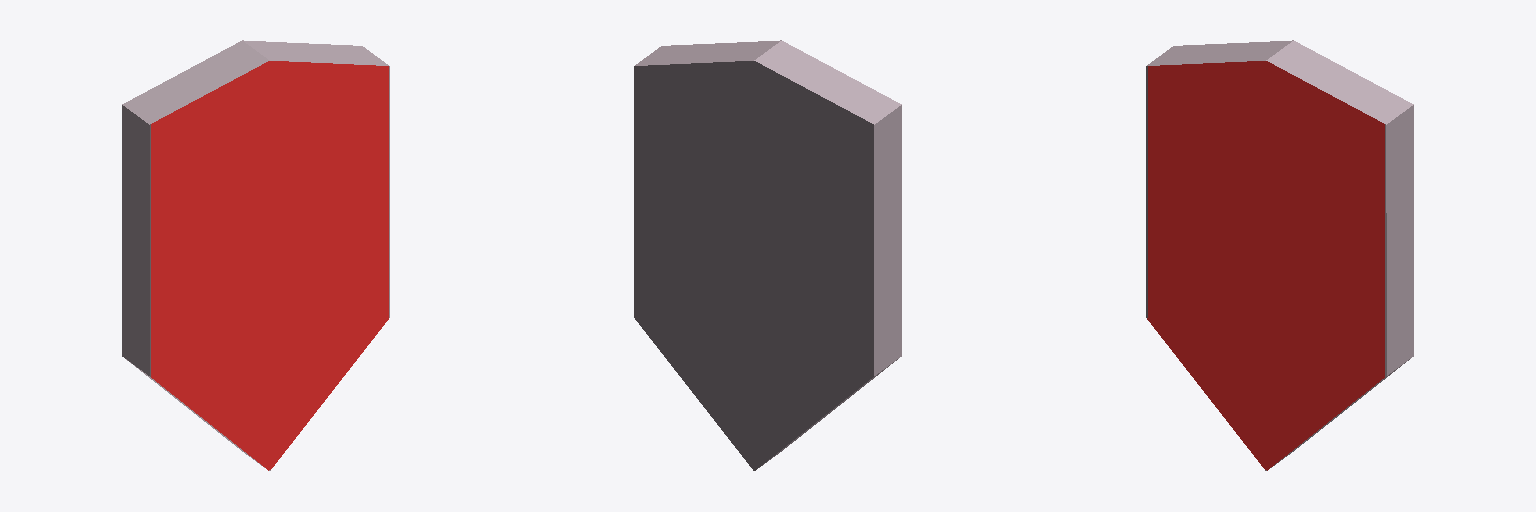
The picture shows the model from 3 angles: view 1: azimuth 30°, elevation 25°; view 2: azimuth 150°, elevation 25°; view 3: azimuth 330°, elevation 25°; orthographic projection.
Visible parts, largest first — view 1: Cube; view 2: Cube; view 3: Cube.
Boxes of the visible parts, box(x1,y1,x2,y2) form: Cube: box(122, 40, 389, 470); Cube: box(634, 40, 901, 470); Cube: box(1146, 40, 1413, 470).
Size of the model in its own units: 2 by 3.27 by 0.3974.
Materials: 1 (1 with a texture image).